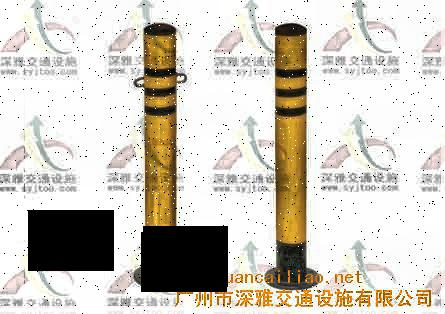bench: (260, 19, 325, 289), (132, 20, 186, 287)
